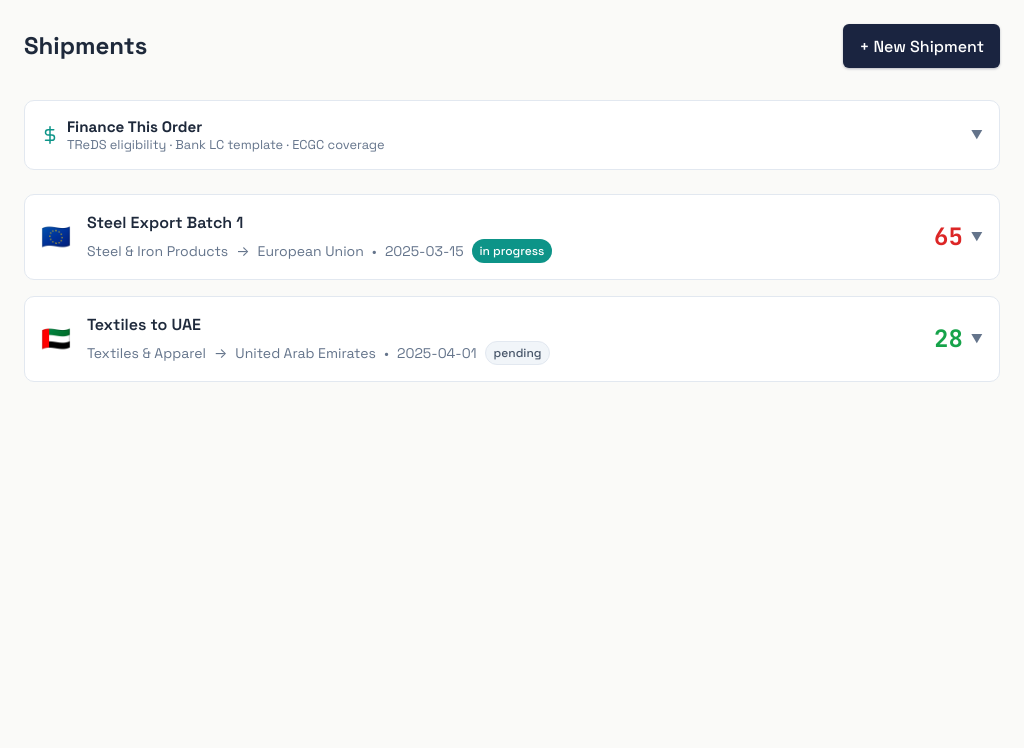
Scenario: Shipments › Add Shipment › shows add shipment form when button clicked
Click the button "+ New Shipment". click: {"x": 922, "y": 46}
box: [843,24,1000,68]
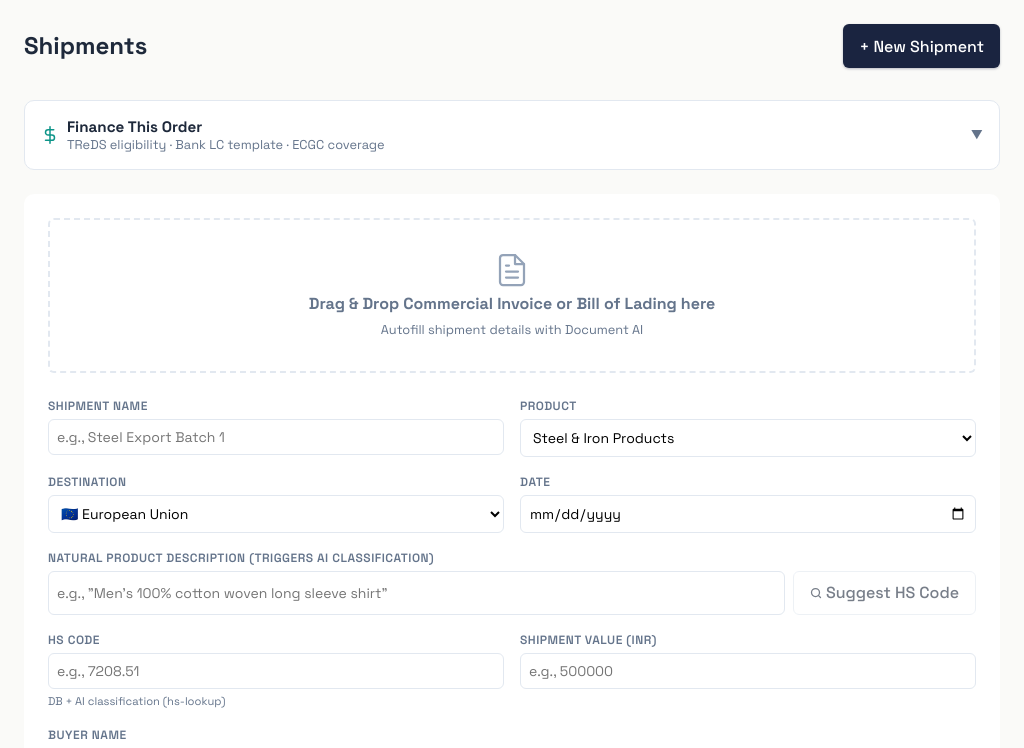
Expected: the field labelled "Shipment Name" is shown, [48,419,504,455]
Expected: the dropdown labelled "Product" is shown, [520,419,976,457]
Expected: the dropdown labelled "Destination" is shown, [48,495,504,533]
